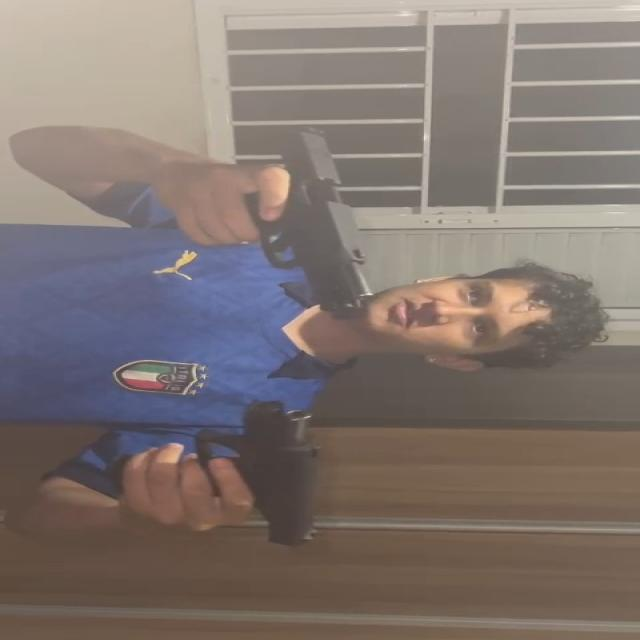guns: (190, 392, 322, 551), (263, 127, 372, 319)
